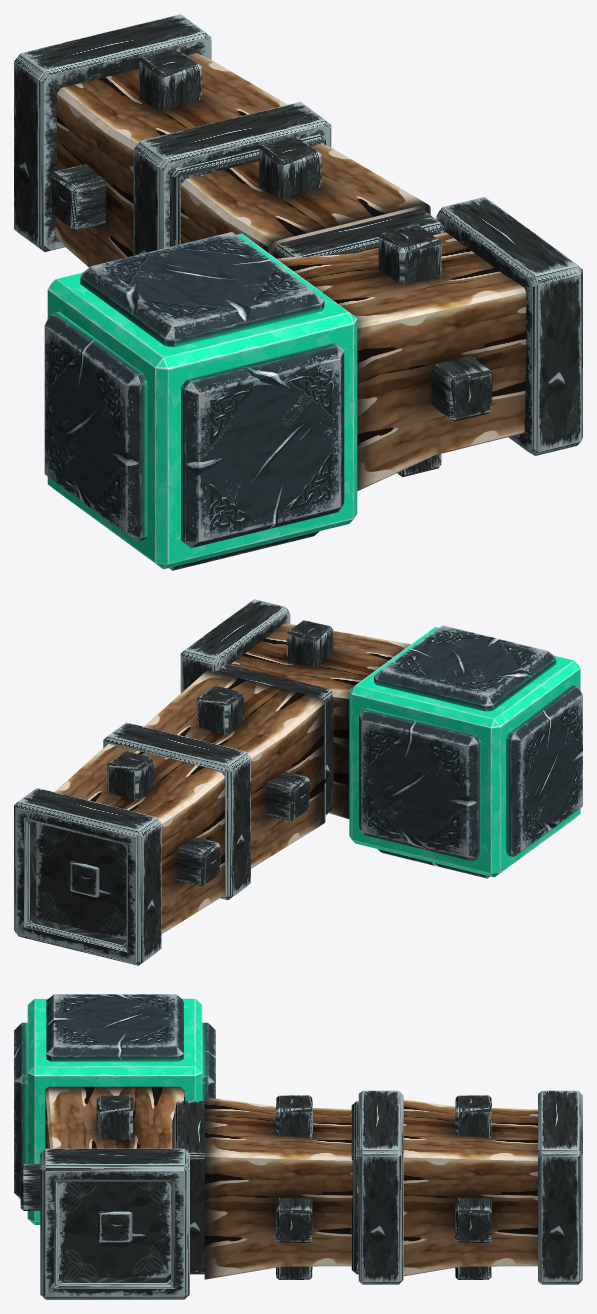
The model's file is step_004.glb.
The picture shows the model from 3 angles, top to bottom: view 1: azimuth 30°, elevation 25°; view 2: azimuth 150°, elevation 25°; view 3: azimuth 270°, elevation 25°; orthographic projection. The views are drawn at different scales.
Visible parts, largest first — view 1: SingleWoodenBlock_c6cb6ea4-029e-4f92-8919-0b61ab0232d0, StartingBlock_a74d7ff6-1644-4f99-b6d4-31dde0cee334; view 2: SingleWoodenBlock_c6cb6ea4-029e-4f92-8919-0b61ab0232d0, StartingBlock_a74d7ff6-1644-4f99-b6d4-31dde0cee334; view 3: SingleWoodenBlock_c6cb6ea4-029e-4f92-8919-0b61ab0232d0, StartingBlock_a74d7ff6-1644-4f99-b6d4-31dde0cee334.
Boxes of the visible parts, x1,y1,x2,y2 form: SingleWoodenBlock_c6cb6ea4-029e-4f92-8919-0b61ab0232d0: [14, 14, 582, 490]; StartingBlock_a74d7ff6-1644-4f99-b6d4-31dde0cee334: [44, 232, 357, 570]; SingleWoodenBlock_c6cb6ea4-029e-4f92-8919-0b61ab0232d0: [14, 599, 410, 965]; StartingBlock_a74d7ff6-1644-4f99-b6d4-31dde0cee334: [349, 625, 582, 878]; SingleWoodenBlock_c6cb6ea4-029e-4f92-8919-0b61ab0232d0: [20, 1086, 582, 1299]; StartingBlock_a74d7ff6-1644-4f99-b6d4-31dde0cee334: [14, 994, 215, 1224].
Bounding box in the file's own units: 2.18 × 1.13 × 3.17.
2 materials, 2 textured.
